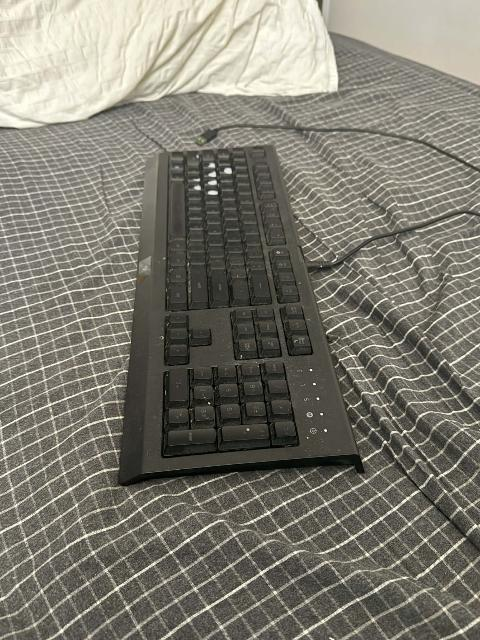ahkeyboard: (114, 130, 378, 489)
